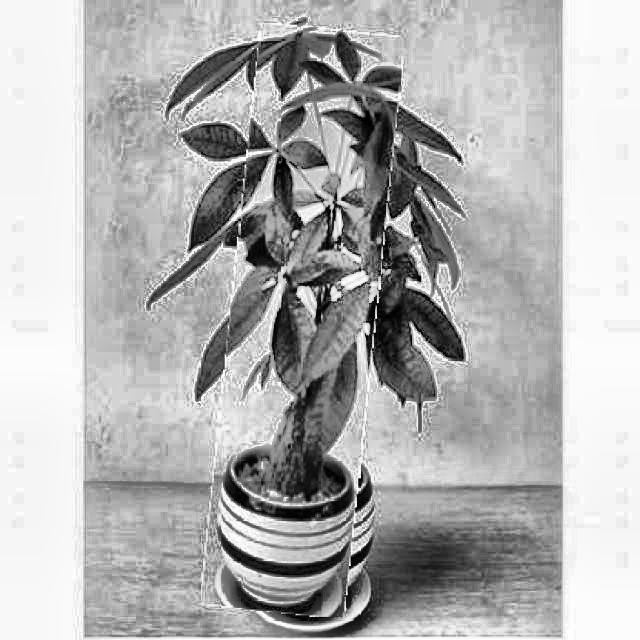plants: (215, 26, 391, 617)
